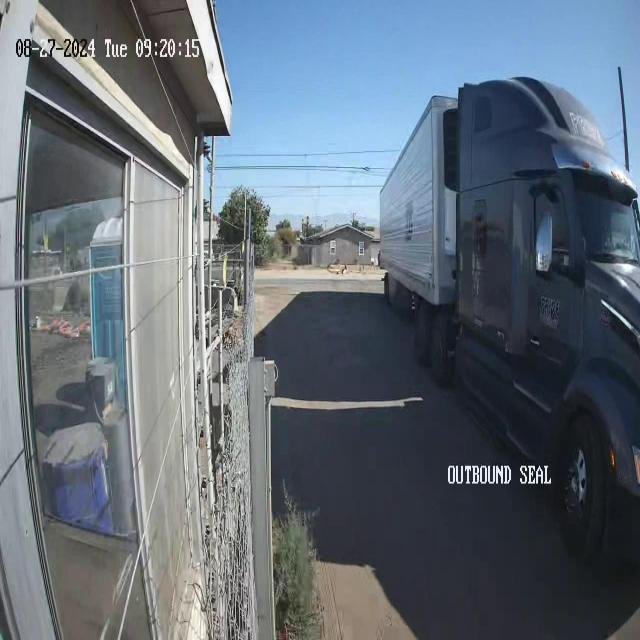CONTAINER: (379, 90, 460, 298)
